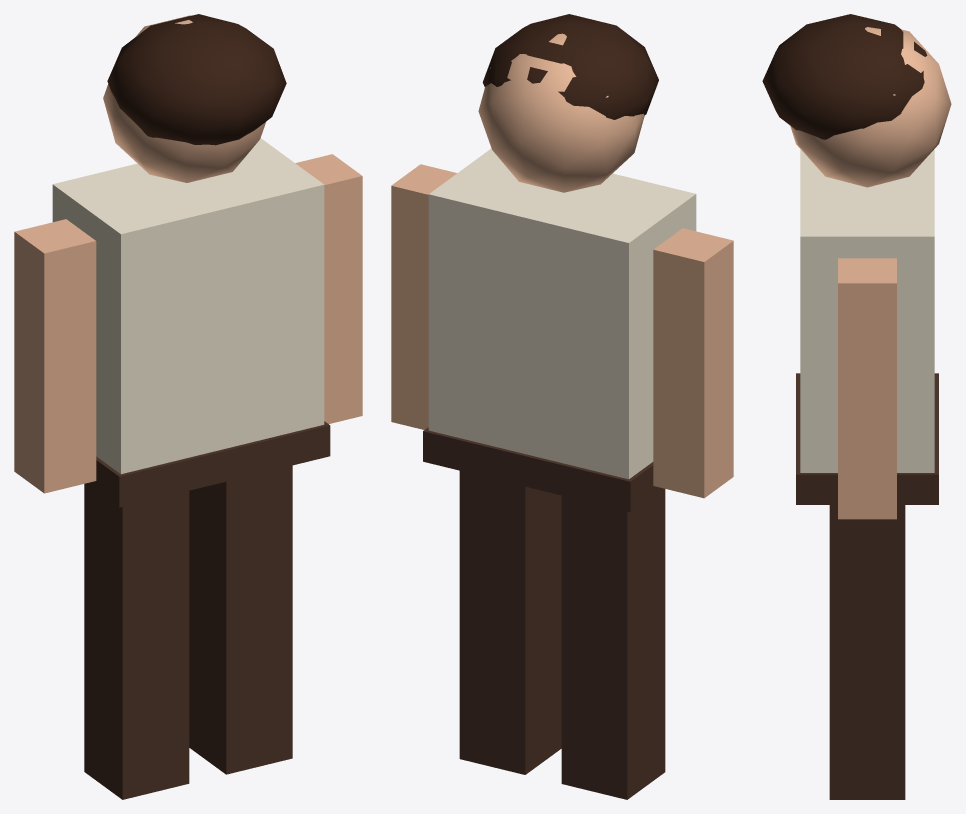
The model's file is runner-pilgrim.glb.
The picture shows the model from 3 angles, left to right: view 1: azimuth 30°, elevation 25°; view 2: azimuth 150°, elevation 25°; view 3: azimuth 270°, elevation 25°; orthographic projection.
Visible parts, largest first — view 1: Runner (Pilgrim); view 2: Runner (Pilgrim); view 3: Runner (Pilgrim).
Boxes of the visible parts, x1,y1,x2,y2 form: Runner (Pilgrim): (14, 14, 362, 799); Runner (Pilgrim): (391, 14, 733, 799); Runner (Pilgrim): (762, 14, 951, 799).
Bounding box in the file's own units: 0.86 × 1.93 × 0.45.
